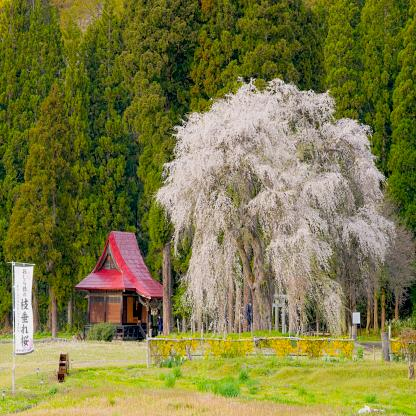ShidareZakura: (147, 74, 397, 341)
